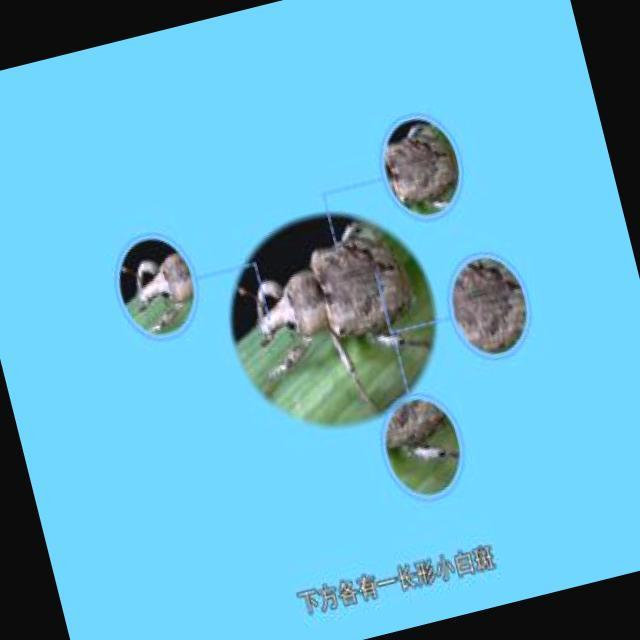ricebug: (256, 225, 409, 409)
